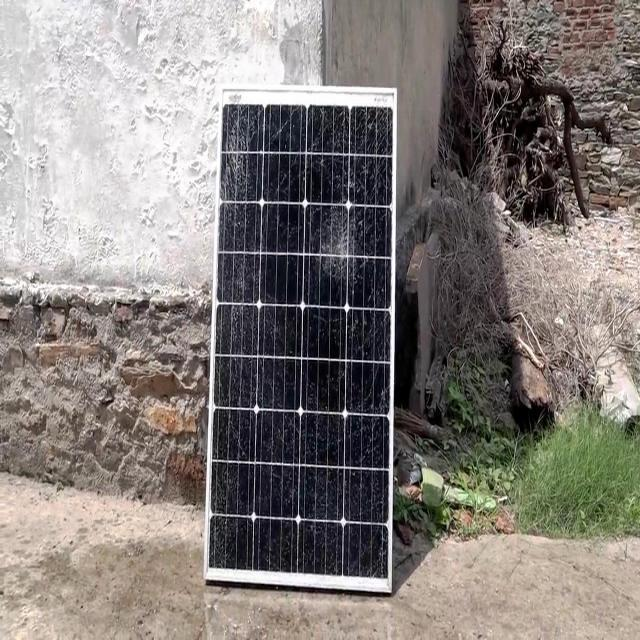faulty: (206, 87, 396, 594)
